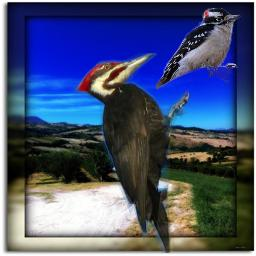Woodpecker: (71, 53, 189, 253), (156, 8, 241, 90)
